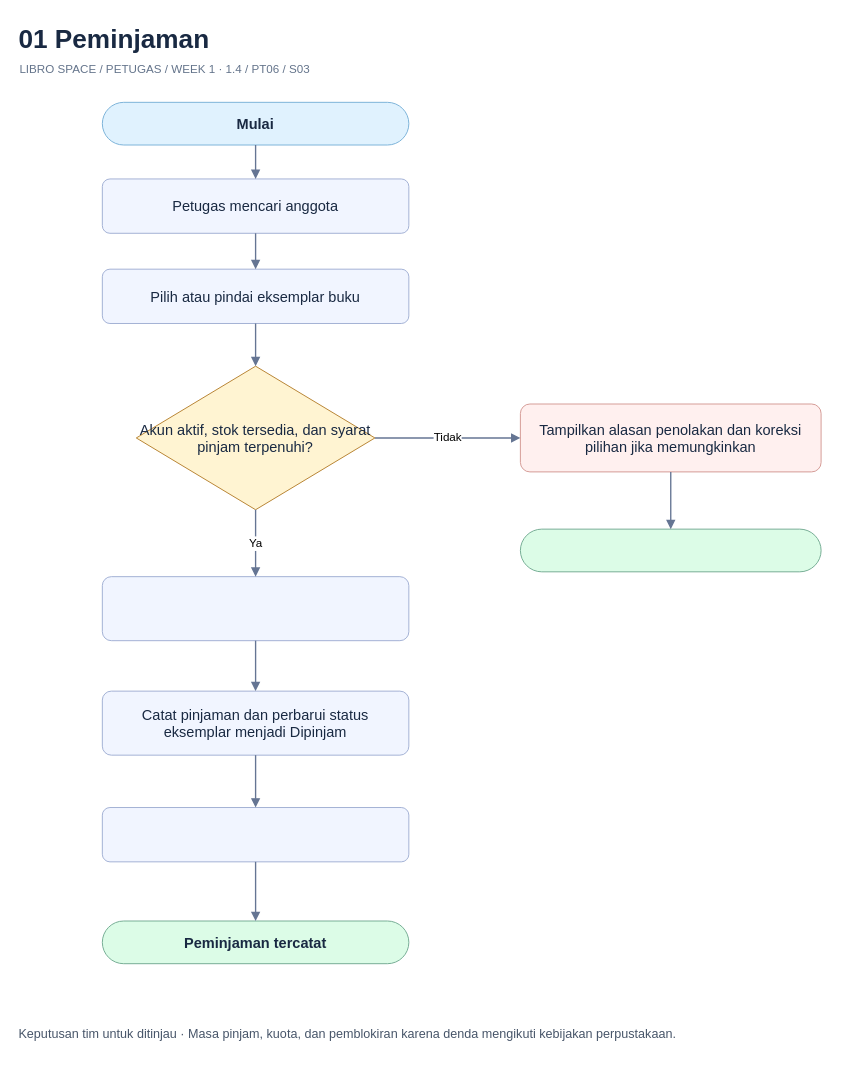
The diagram is 857 pixels wide and 1076 high, and some of its shapes have lost their labels. Each missing label, with the box of its shape:
Percobaan pinjam selesai: (519, 528, 821, 572)
Tampilkan jatuh tempo dan konfirmasi peminjaman: (101, 576, 409, 641)
Tampilkan opsi cetak bukti pinjam: (101, 807, 409, 862)
